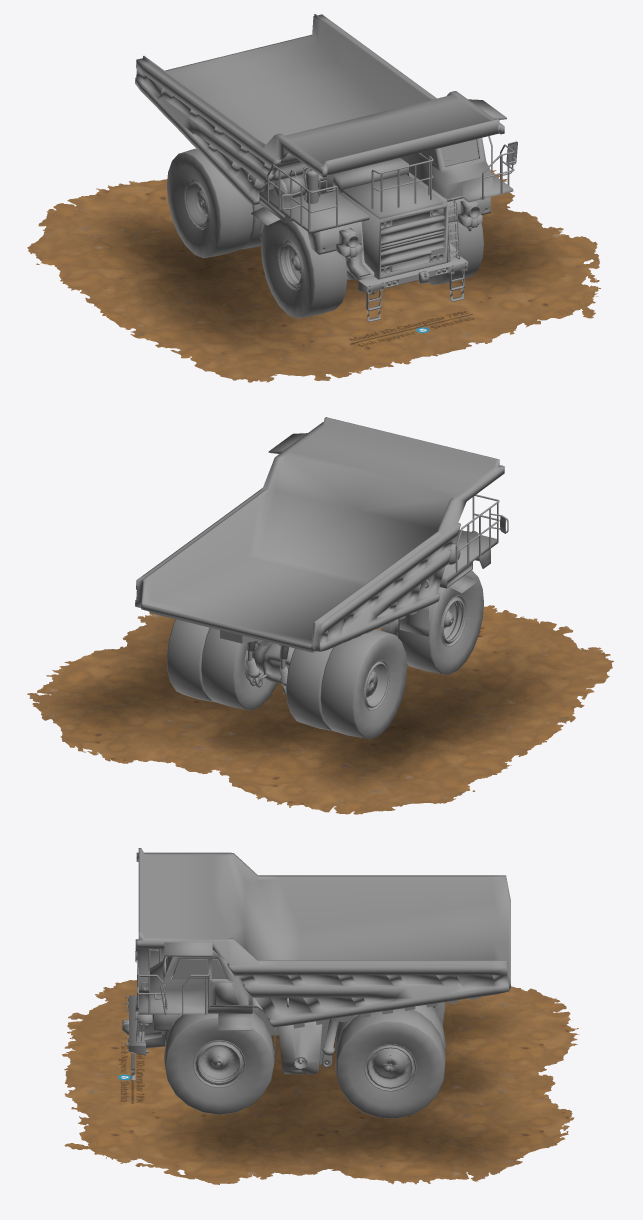
File: uploads_files_1836283_Caterpillar+789c.FBX
3 views of the same model, one above another, from view 1: azimuth 30°, elevation 25°; view 2: azimuth 150°, elevation 25°; view 3: azimuth 270°, elevation 25° (orthographic).
Visible parts, largest first — view 1: Caterpillar789c, mesh2_dat, Glass; view 2: Caterpillar789c, mesh2_dat; view 3: Caterpillar789c, mesh2_dat, Glass.
Part boxes in pixels (box(x1,y1,x2,y2)): Caterpillar789c: box(135, 14, 517, 322); mesh2_dat: box(27, 170, 600, 382); Glass: box(420, 139, 478, 166); Caterpillar789c: box(135, 417, 508, 739); mesh2_dat: box(27, 605, 613, 814); Caterpillar789c: box(122, 848, 510, 1118); mesh2_dat: box(62, 980, 579, 1184); Glass: box(166, 956, 226, 978).
Size of the model in its own units: 735 by 244 by 733.
